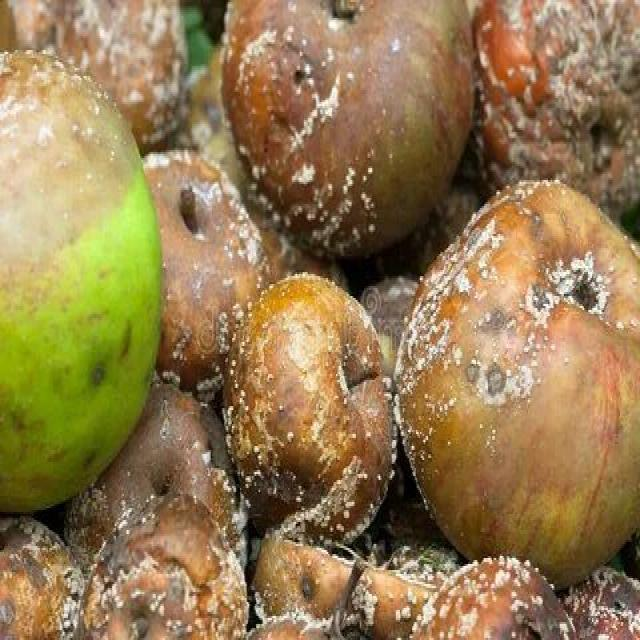Rotten: (396, 194, 640, 574), (202, 0, 492, 254), (0, 36, 152, 514), (234, 278, 402, 512), (464, 0, 640, 198)
